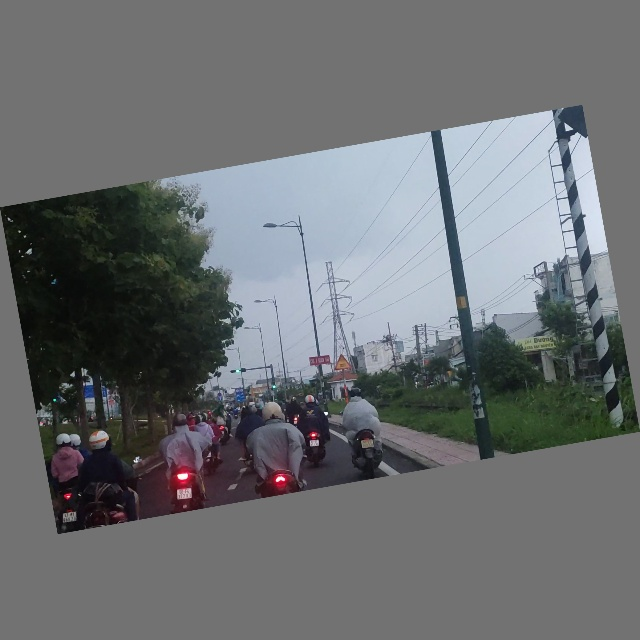W.210: (332, 353, 353, 372)
